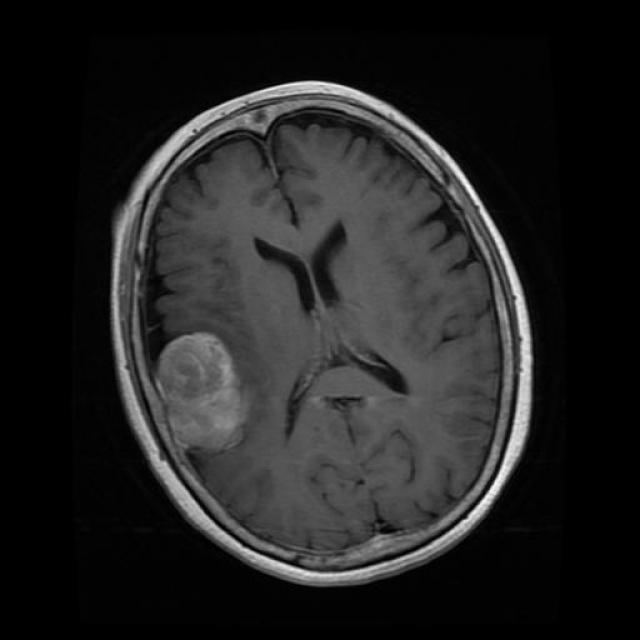meningioma: (147, 317, 245, 456)
